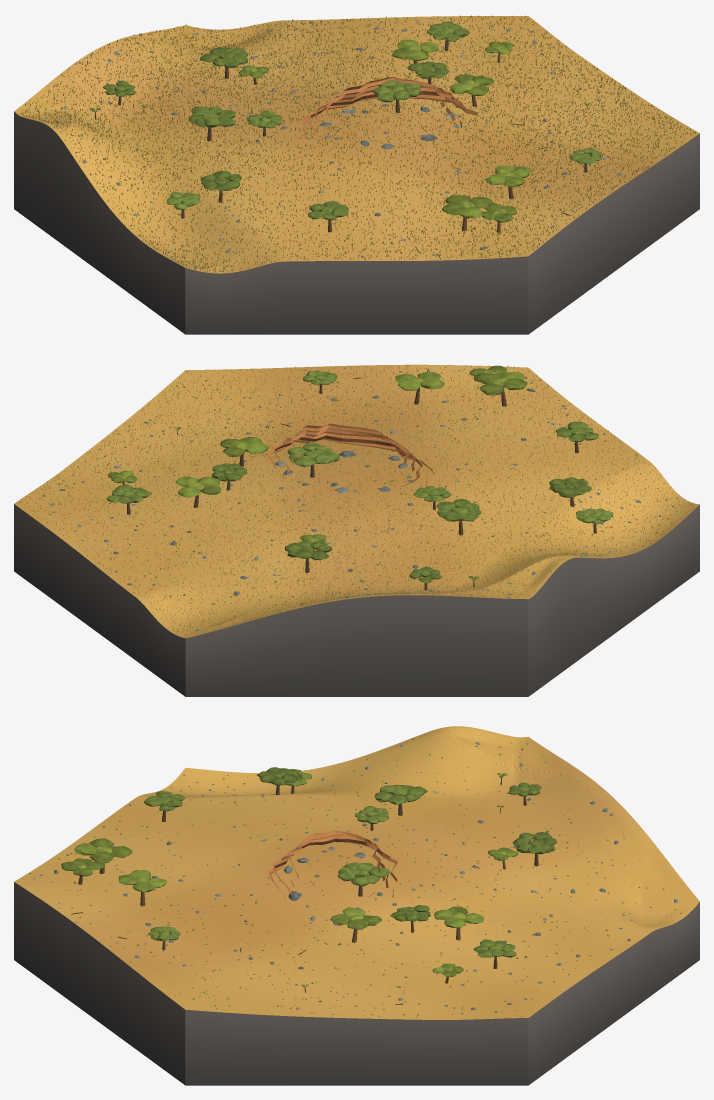
The picture shows the model from 3 angles, top to bottom: view 1: azimuth 30°, elevation 25°; view 2: azimuth 150°, elevation 25°; view 3: azimuth 270°, elevation 25°; orthographic projection.
Parts seen in each view (by area): view 1: terrain, hex_side_cut, wildflowers, broadleaf_canopy, shrubs, rock_escarpments, boulders, trunks; view 2: terrain, hex_side_cut, wildflowers, broadleaf_canopy, shrubs, rock_escarpments, boulders, trunks; view 3: terrain, hex_side_cut, broadleaf_canopy, shrubs, boulders, rock_escarpments, trunks.
Part boxes in pixels (bbox=[...]): terrain: bbox=[14, 16, 699, 273]; hex_side_cut: bbox=[14, 112, 699, 334]; wildflowers: bbox=[20, 15, 695, 272]; broadleaf_canopy: bbox=[90, 21, 601, 222]; shrubs: bbox=[25, 18, 677, 271]; rock_escarpments: bbox=[302, 76, 482, 137]; boulders: bbox=[36, 22, 651, 261]; trunks: bbox=[95, 40, 588, 232]; terrain: bbox=[14, 364, 699, 638]; hex_side_cut: bbox=[14, 504, 699, 696]; wildflowers: bbox=[17, 364, 693, 636]; broadleaf_canopy: bbox=[106, 365, 613, 583]; shrubs: bbox=[20, 365, 692, 631]; rock_escarpments: bbox=[267, 423, 434, 487]; boulders: bbox=[21, 370, 661, 630]; trunks: bbox=[122, 384, 596, 590]; terrain: bbox=[14, 726, 699, 1019]; hex_side_cut: bbox=[14, 882, 699, 1085]; broadleaf_canopy: bbox=[61, 767, 556, 987]; shrubs: bbox=[29, 738, 681, 1017]; boulders: bbox=[26, 731, 678, 1012]; rock_escarpments: bbox=[268, 830, 397, 900]; trunks: bbox=[78, 777, 538, 992].
Size of the model in its own units: 4330 by 944 by 5000.
